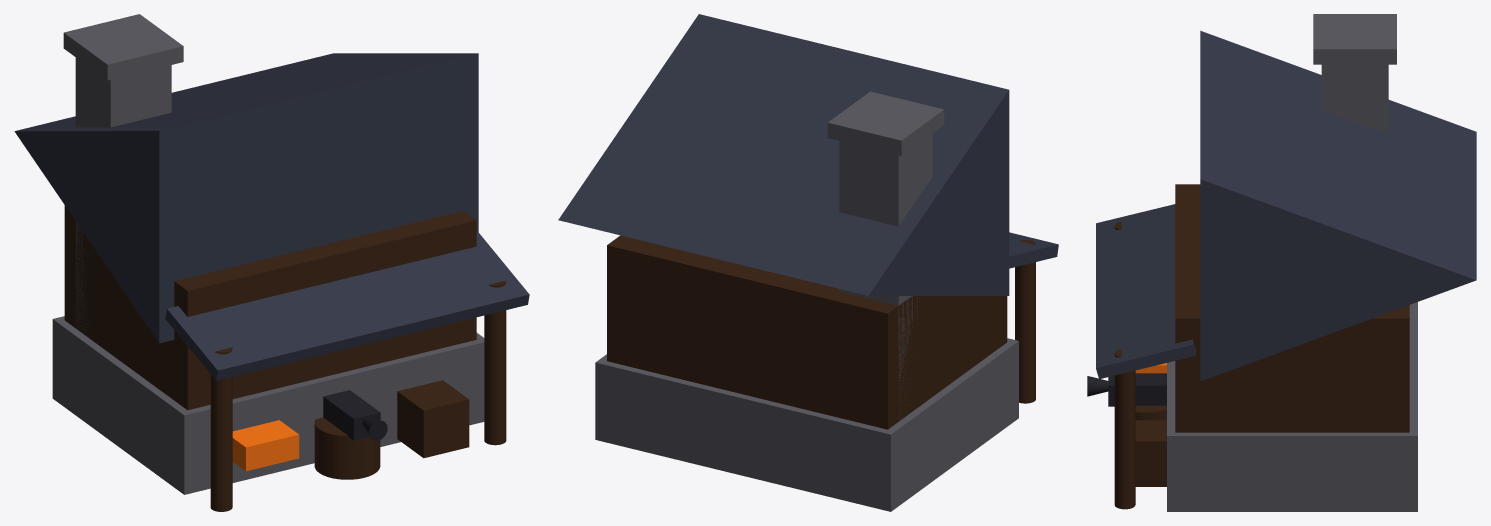
Rendered from Forja_Real_Spectacular.obj.
The picture shows the model from 3 angles, left to right: view 1: azimuth 30°, elevation 25°; view 2: azimuth 150°, elevation 25°; view 3: azimuth 270°, elevation 25°; orthographic projection. The views are drawn at different scales.
Visible parts, largest first — view 1: Pitched_Roof, Timber_Walls, Stone_Foundation, Porch_Awning, Stone_Chimney, Chimney_Cap, Water_Trough, Porch_Post_-3.6, Porch_Post_3.6, Anvil_Stump, Coals_Basin, Steel_Anvil; view 2: Pitched_Roof, Timber_Walls, Stone_Foundation, Stone_Chimney, Chimney_Cap, Porch_Post_-3.6, Porch_Awning; view 3: Pitched_Roof, Timber_Walls, Stone_Foundation, Porch_Awning, Chimney_Cap, Stone_Chimney, Porch_Post_3.6, Water_Trough, Steel_Anvil, Anvil_Stump.
Boxes of the visible parts, box(x1,y1,x2,y2) form: Pitched_Roof: box(14, 53, 478, 343); Timber_Walls: box(64, 205, 476, 410); Stone_Foundation: box(52, 316, 484, 494); Porch_Awning: box(165, 232, 529, 380); Stone_Chimney: box(75, 57, 171, 336); Chimney_Cap: box(63, 14, 183, 80); Water_Trough: box(397, 380, 469, 458); Porch_Post_-3.6: box(210, 347, 232, 511); Porch_Post_3.6: box(484, 280, 506, 445); Anvil_Stump: box(314, 417, 380, 479); Coals_Basin: box(232, 420, 299, 471); Steel_Anvil: box(323, 390, 380, 440); Pitched_Roof: box(558, 14, 1009, 295); Timber_Walls: box(607, 235, 1007, 429); Stone_Foundation: box(595, 338, 1018, 511); Stone_Chimney: box(839, 134, 932, 419); Chimney_Cap: box(827, 91, 944, 155); Porch_Post_-3.6: box(1015, 240, 1035, 403); Porch_Awning: box(1009, 232, 1058, 268); Pitched_Roof: box(1200, 30, 1476, 381); Timber_Walls: box(1175, 184, 1409, 432); Stone_Foundation: box(1167, 302, 1417, 511); Porch_Awning: box(1096, 204, 1195, 379); Chimney_Cap: box(1313, 14, 1396, 64); Stone_Chimney: box(1321, 64, 1388, 134); Porch_Post_3.6: box(1114, 349, 1135, 509); Water_Trough: box(1135, 420, 1166, 486); Steel_Anvil: box(1108, 373, 1166, 406); Anvil_Stump: box(1135, 405, 1166, 420).
Bounding box in the file's own units: 8.4 × 9.4 × 9.3.
